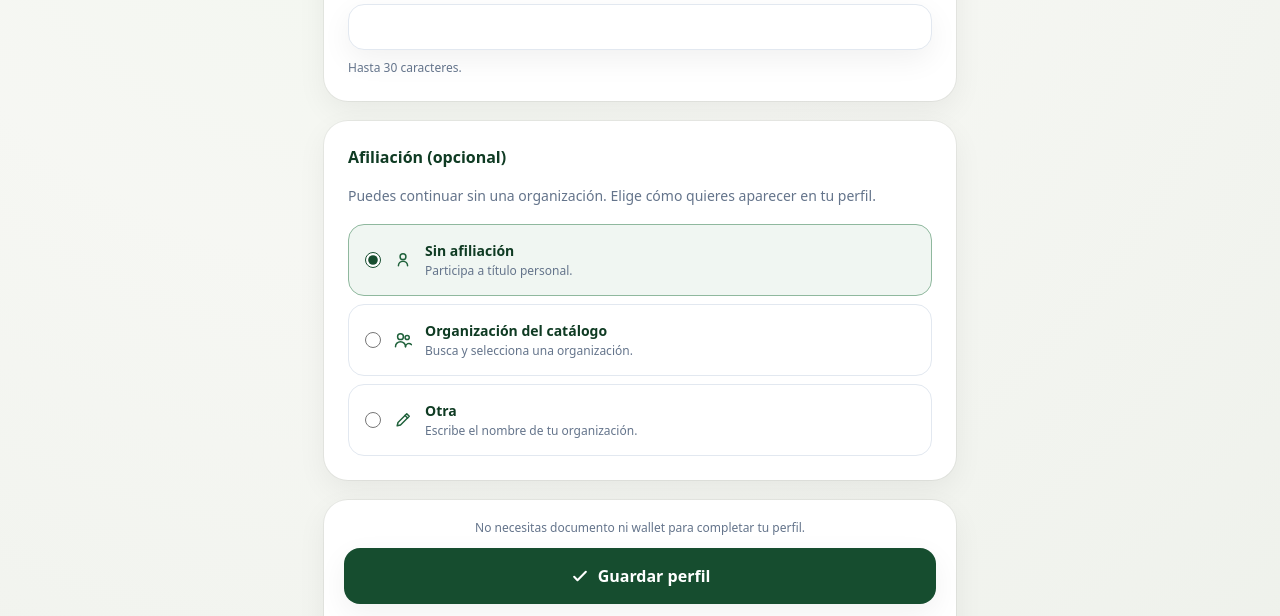
Test: Formulario participante › conserva formulario si backend rechaza selección
(page scrolled)
Click the radio button labelled "Otra Escribe el nombre de tu organización.": (373, 420) [365, 412, 381, 428]
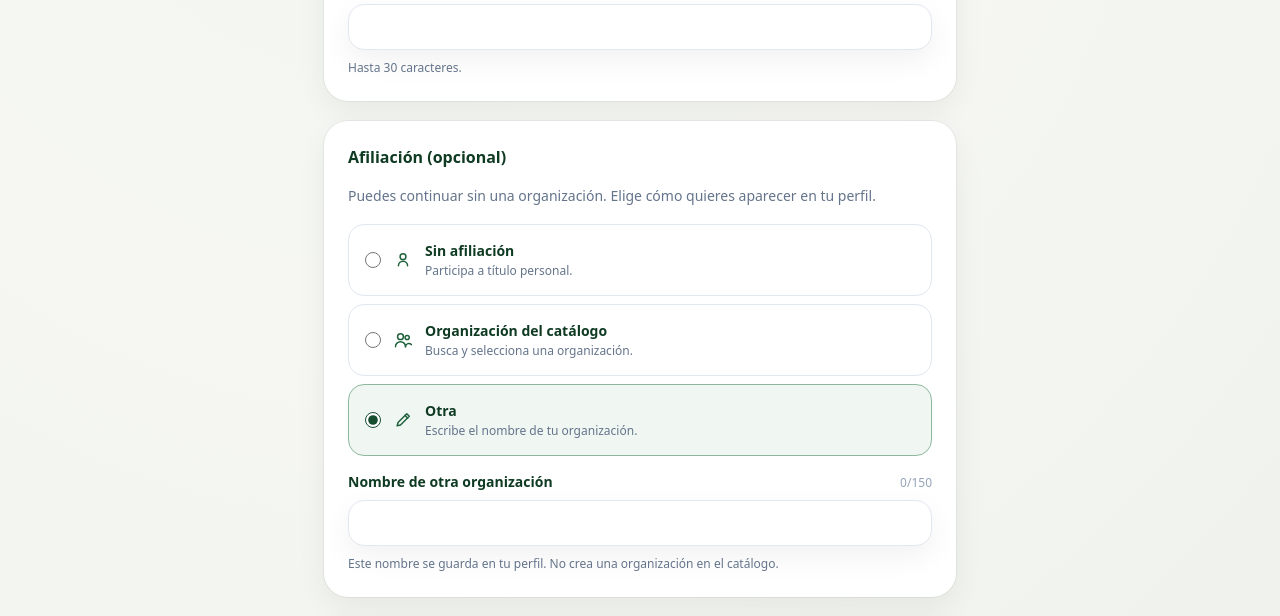
In the field labelled "Nombre de otra organización": (640, 523) [348, 500, 932, 546], type "Organización de prueba"
(page scrolled)
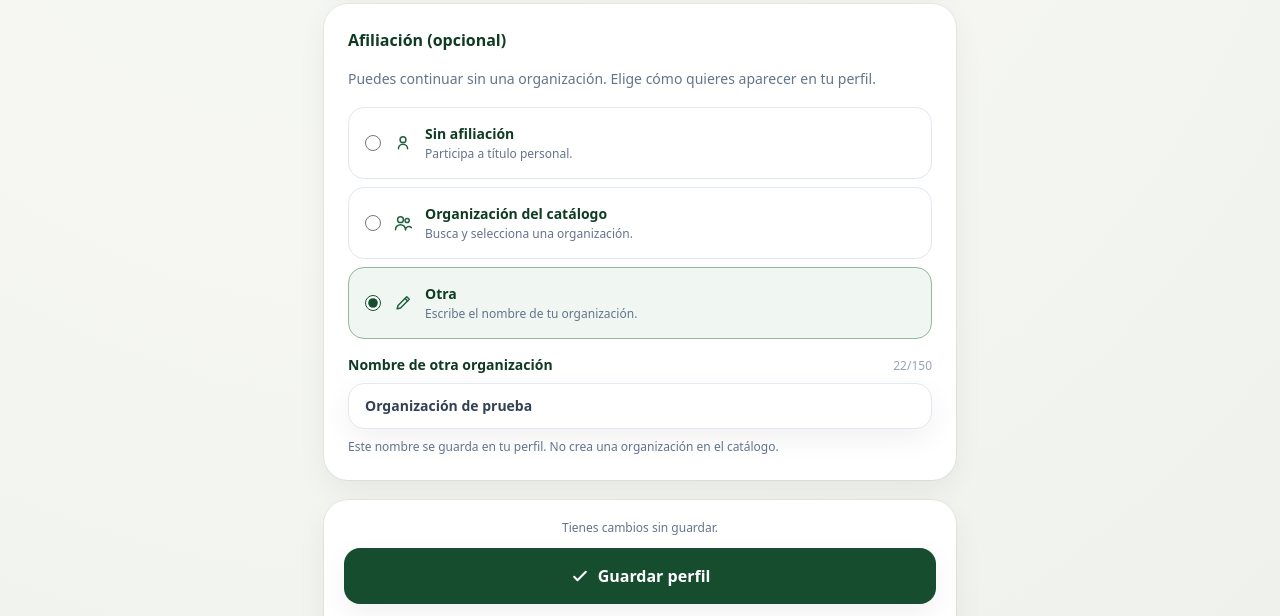
Click the button "Guardar perfil": (640, 576) [344, 548, 936, 604]
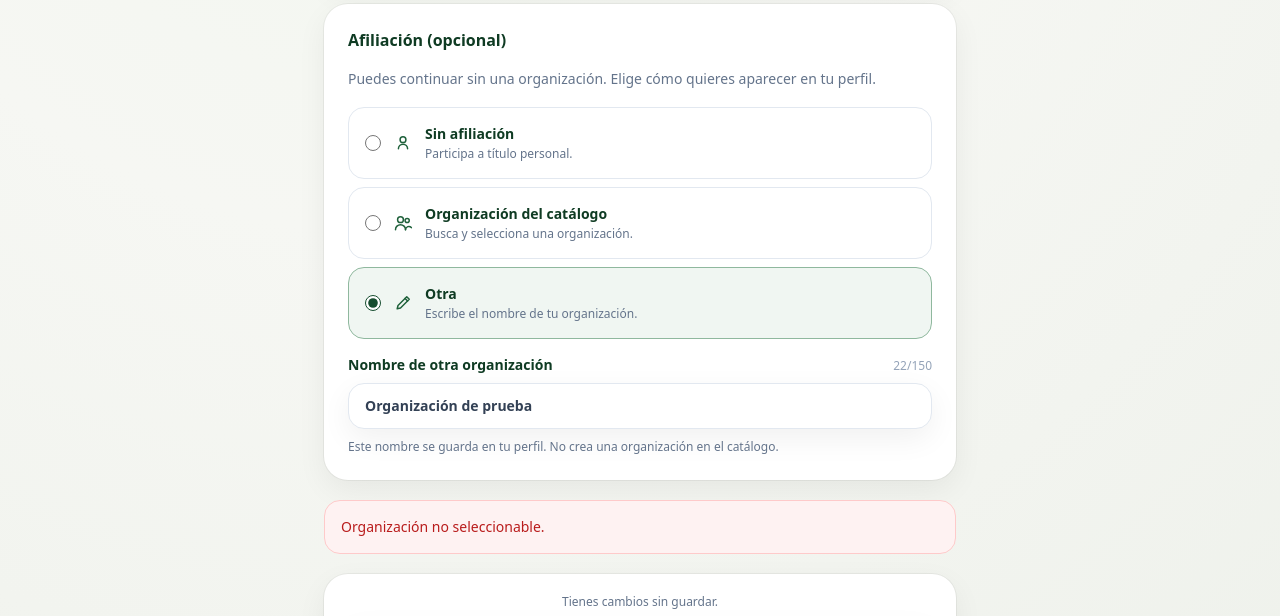
Check: the message "Organización no seleccionable." is shown, box [324, 500, 956, 554]
